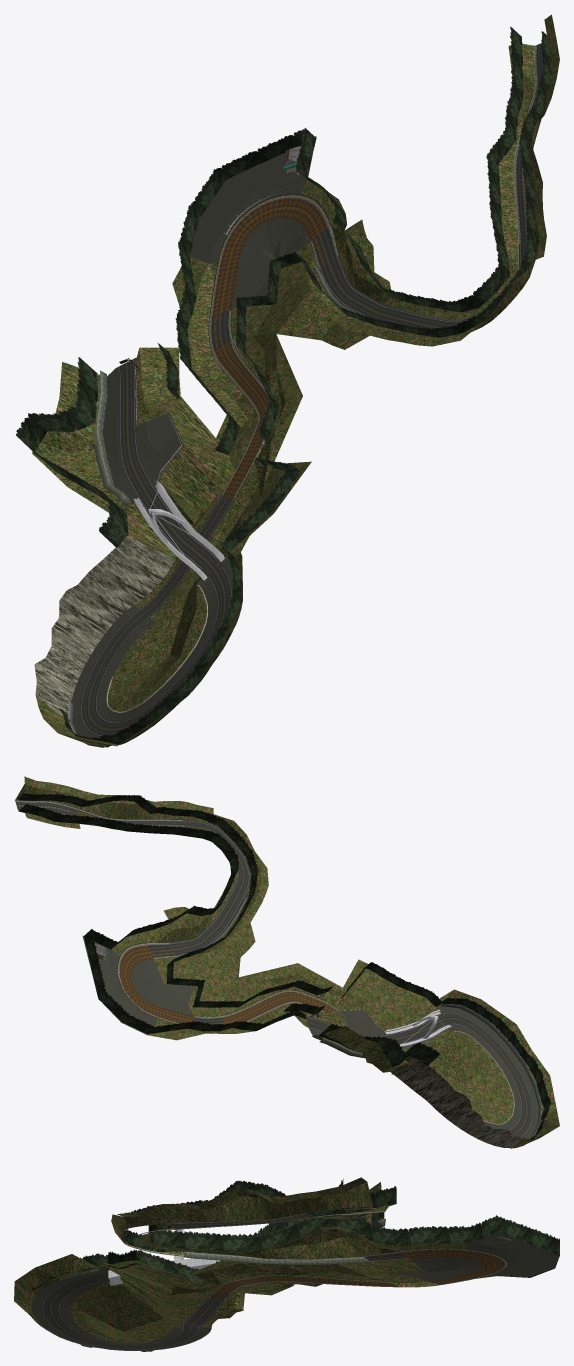
Rendered from okaru2.glb.
3 views of the same model, one above another, from view 1: azimuth 30°, elevation 25°; view 2: azimuth 150°, elevation 25°; view 3: azimuth 270°, elevation 25° (orthographic). The views are drawn at different scales.
Visible parts, largest first — view 1: okaru2; view 2: okaru2; view 3: okaru2.
Boxes of the visible parts, x1,y1,x2,y2 form: okaru2: (16, 14, 559, 747); okaru2: (14, 776, 559, 1148); okaru2: (14, 1177, 559, 1351).
Bounding box in the file's own units: 342 × 245 × 275.
25 materials, 25 textured.
